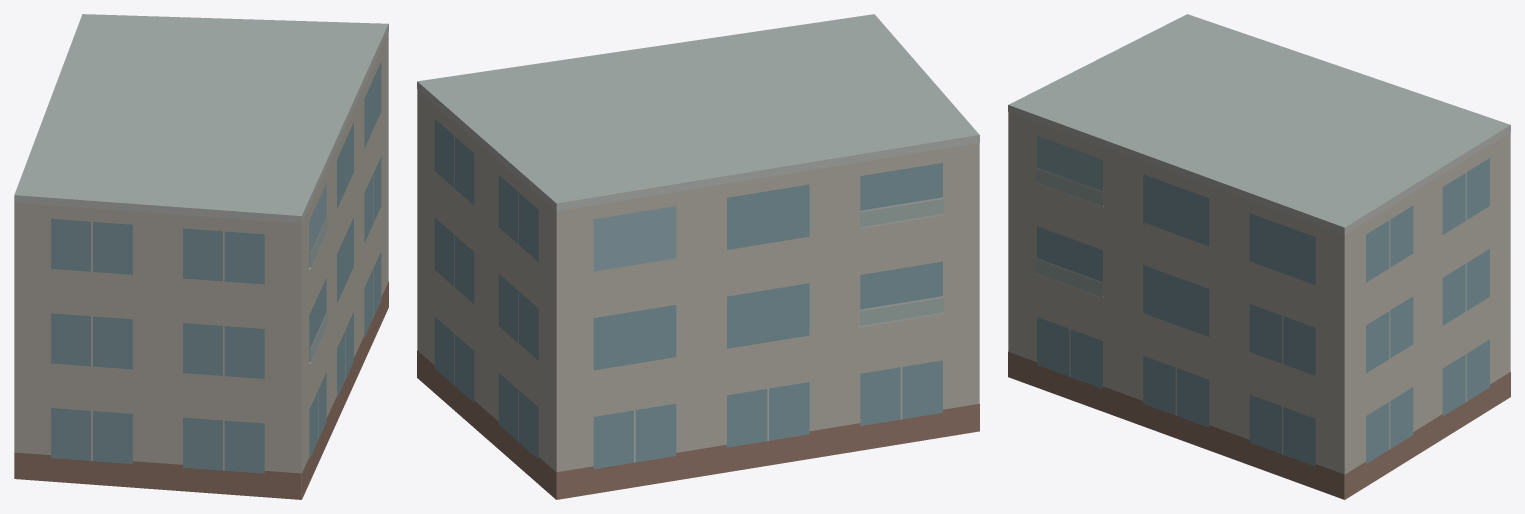
File: survey-upis-32705859.glb
3 renders of one model, left to right at view 1: azimuth 30°, elevation 25°; view 2: azimuth 150°, elevation 25°; view 3: azimuth 270°, elevation 25°, orthographic. The views are drawn at different scales.
Visible parts, largest first — view 1: survey-upis-32705859.tmp; view 2: survey-upis-32705859.tmp; view 3: survey-upis-32705859.tmp.
Part boxes in pixels (x1=…): survey-upis-32705859.tmp: x1=14, y1=14, x2=388, y2=499; survey-upis-32705859.tmp: x1=417, y1=14, x2=979, y2=499; survey-upis-32705859.tmp: x1=1008, y1=14, x2=1510, y2=499.
Bounding box in the file's own units: 15.41 × 9.15 × 15.32.
